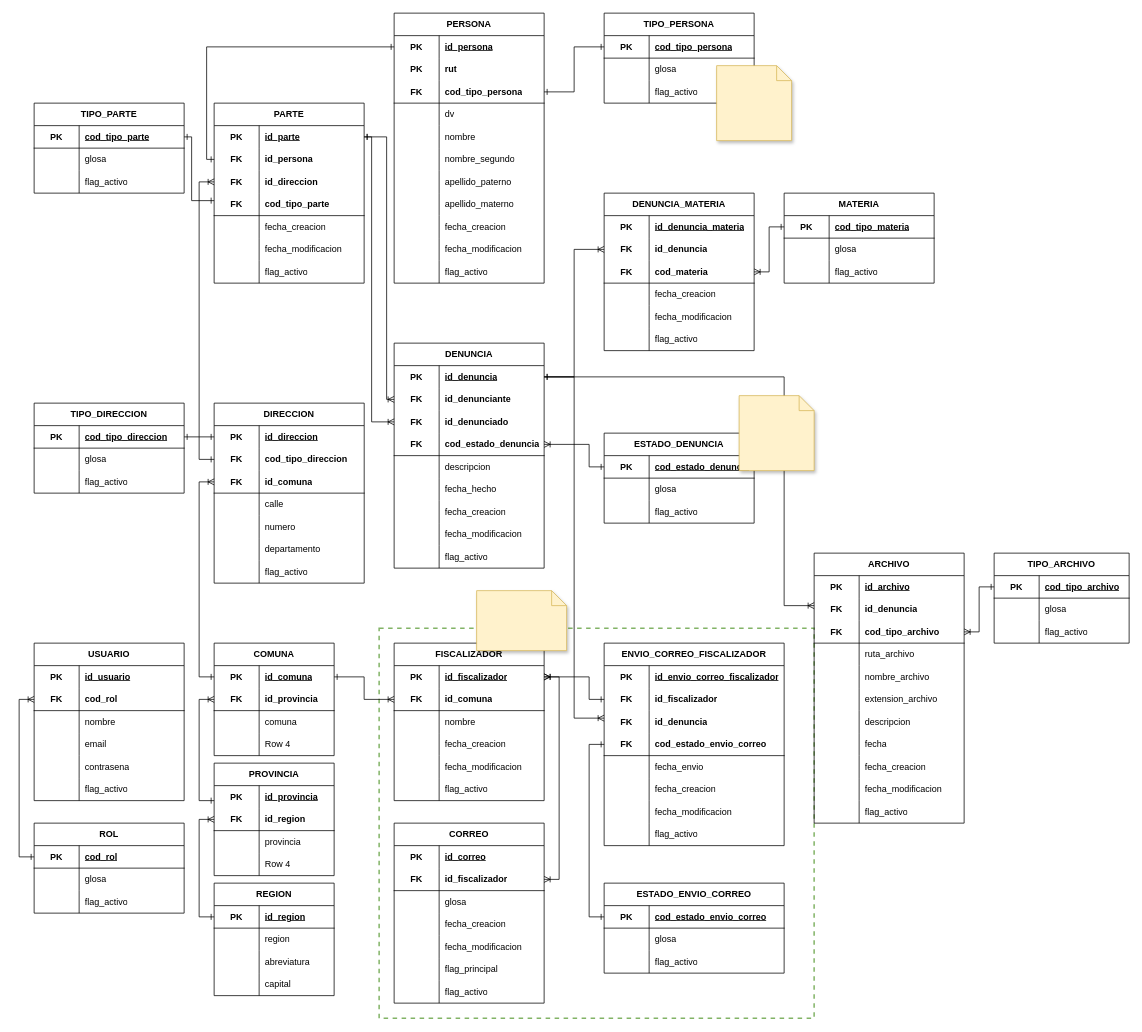
Image size: 1142x1032. Some labels were removed from this diagram. Each missing label, with the centre of its shape:
"1. Natural 2. Jurídica" goes at point (754, 104).
"1. Pendiente 2. En revisión 3. Remitida" goes at point (777, 434).
"Un ente fiscalizador podría tener más de un correo" goes at point (522, 621).
